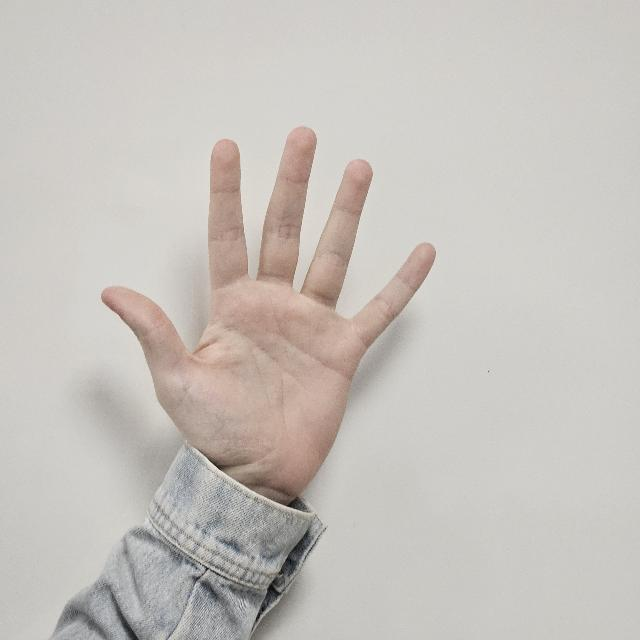X: (101, 128, 442, 522)
